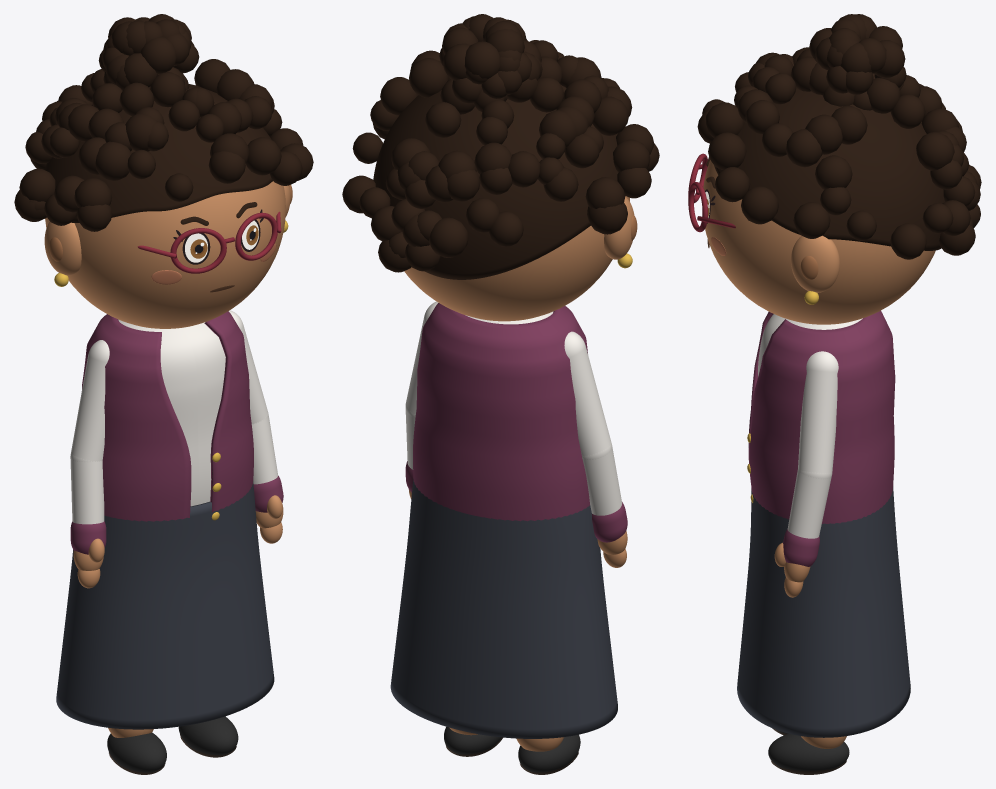
Rendered from directeur_school.glb.
3 views of the same model, side by side, from view 1: azimuth 30°, elevation 25°; view 2: azimuth 150°, elevation 25°; view 3: azimuth 270°, elevation 25° (orthographic). The views are drawn at different scales.
Visible parts, largest first — view 1: directeur_school_rok, directeur_school_vest, directeur_school_hoofd, directeur_school_haar, directeur_school_romp, directeur_school_bovenarm_R, directeur_school_onderarm_R, directeur_school_schoen_R, directeur_school_schoen_L, directeur_school_oor_R, directeur_school_onderarm_L, directeur_school_krul26 (+35 smaller); view 2: directeur_school_rok, directeur_school_vest, directeur_school_haar, directeur_school_hoofd, directeur_school_bovenarm_R, directeur_school_onderarm_R, directeur_school_schoen_R, directeur_school_krul13, directeur_school_krul48, directeur_school_krul1, directeur_school_knotkrul87, directeur_school_krul36 (+39 smaller); view 3: directeur_school_rok, directeur_school_vest, directeur_school_haar, directeur_school_hoofd, directeur_school_bovenarm_L, directeur_school_onderarm_L, directeur_school_schoen_L, directeur_school_oor_L, directeur_school_krul78, directeur_school_krul7, directeur_school_krul63, directeur_school_krul21 (+28 smaller).
Boxes of the visible parts, <box> form: directeur_school_rok: <box>56,481,274,729</box>; directeur_school_vest: <box>82,311,253,521</box>; directeur_school_hoofd: <box>45,181,285,328</box>; directeur_school_haar: <box>44,84,273,222</box>; directeur_school_romp: <box>118,319,225,506</box>; directeur_school_bovenarm_R: <box>70,340,109,461</box>; directeur_school_onderarm_R: <box>70,456,104,524</box>; directeur_school_schoen_R: <box>107,732,166,772</box>; directeur_school_schoen_L: <box>178,716,238,755</box>; directeur_school_oor_R: <box>44,221,81,275</box>; directeur_school_onderarm_L: <box>251,415,278,484</box>; directeur_school_krul26: <box>95,141,131,180</box>; directeur_school_rok: <box>390,479,617,738</box>; directeur_school_vest: <box>413,303,589,521</box>; directeur_school_haar: <box>373,78,618,279</box>; directeur_school_hoofd: <box>404,196,629,321</box>; directeur_school_bovenarm_R: <box>564,331,611,459</box>; directeur_school_onderarm_R: <box>582,446,622,515</box>; directeur_school_schoen_R: <box>518,734,580,772</box>; directeur_school_krul13: <box>429,217,468,257</box>; directeur_school_krul48: <box>409,58,449,97</box>; directeur_school_krul1: <box>592,96,628,135</box>; directeur_school_knotkrul87: <box>464,41,499,79</box>; directeur_school_krul36: <box>425,102,461,137</box>; directeur_school_rok: <box>737,486,910,737</box>; directeur_school_vest: <box>748,310,895,523</box>; directeur_school_haar: <box>714,87,944,250</box>; directeur_school_hoofd: <box>703,160,935,324</box>; directeur_school_bovenarm_L: <box>798,351,838,478</box>; directeur_school_onderarm_L: <box>787,469,832,538</box>; directeur_school_schoen_L: <box>768,733,849,771</box>; directeur_school_oor_L: <box>791,235,839,292</box>; directeur_school_krul78: <box>741,186,778,224</box>; directeur_school_krul7: <box>708,132,746,169</box>; directeur_school_krul63: <box>916,132,954,170</box>; directeur_school_krul21: <box>793,202,830,238</box>.
Size of the model in its own units: 0.7298 by 1.93 by 0.7011.
